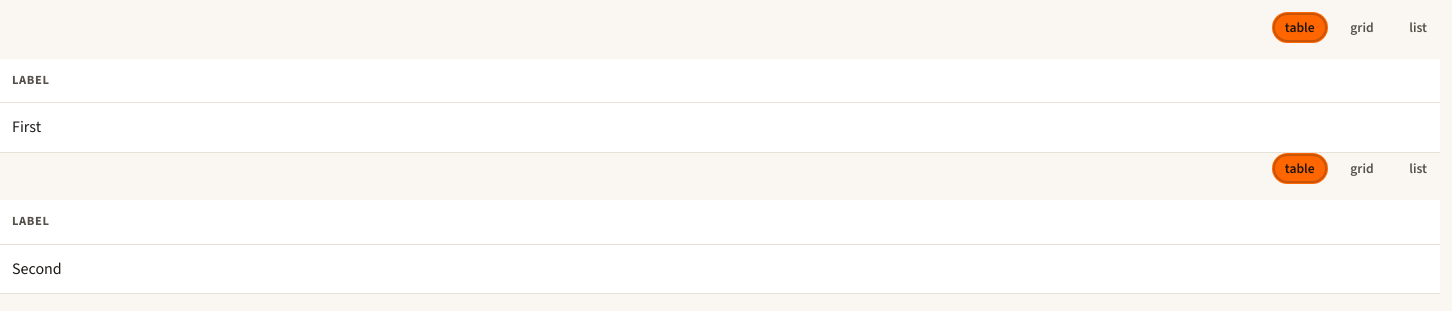
Test: DataViews › synchronizes the selected representation across mounted panels
Click the 1st button "grid": (1362, 28) left=1337, top=12, right=1387, bottom=43
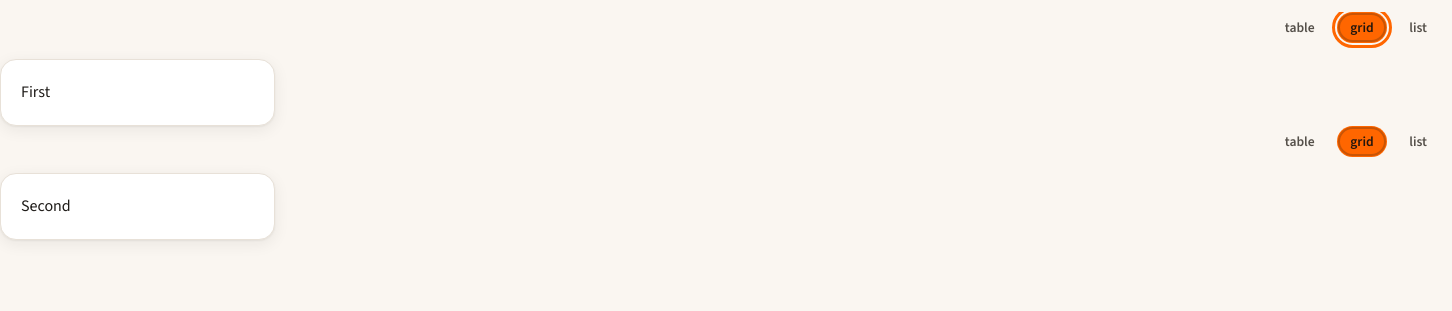
Result: the number of elements with class "admin-data-grid" is 2 at left=0, top=59, right=275, bottom=126; left=0, top=173, right=275, bottom=240
